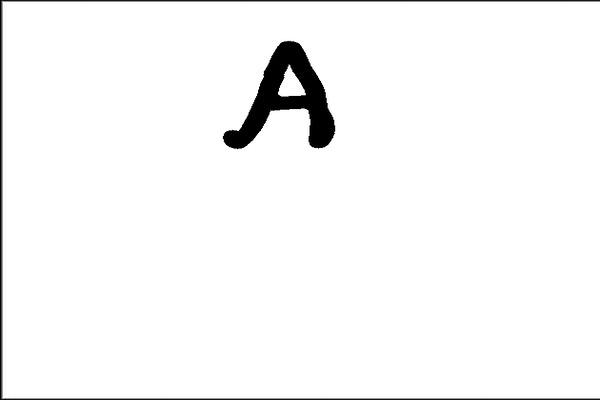A: (217, 32, 341, 163)
